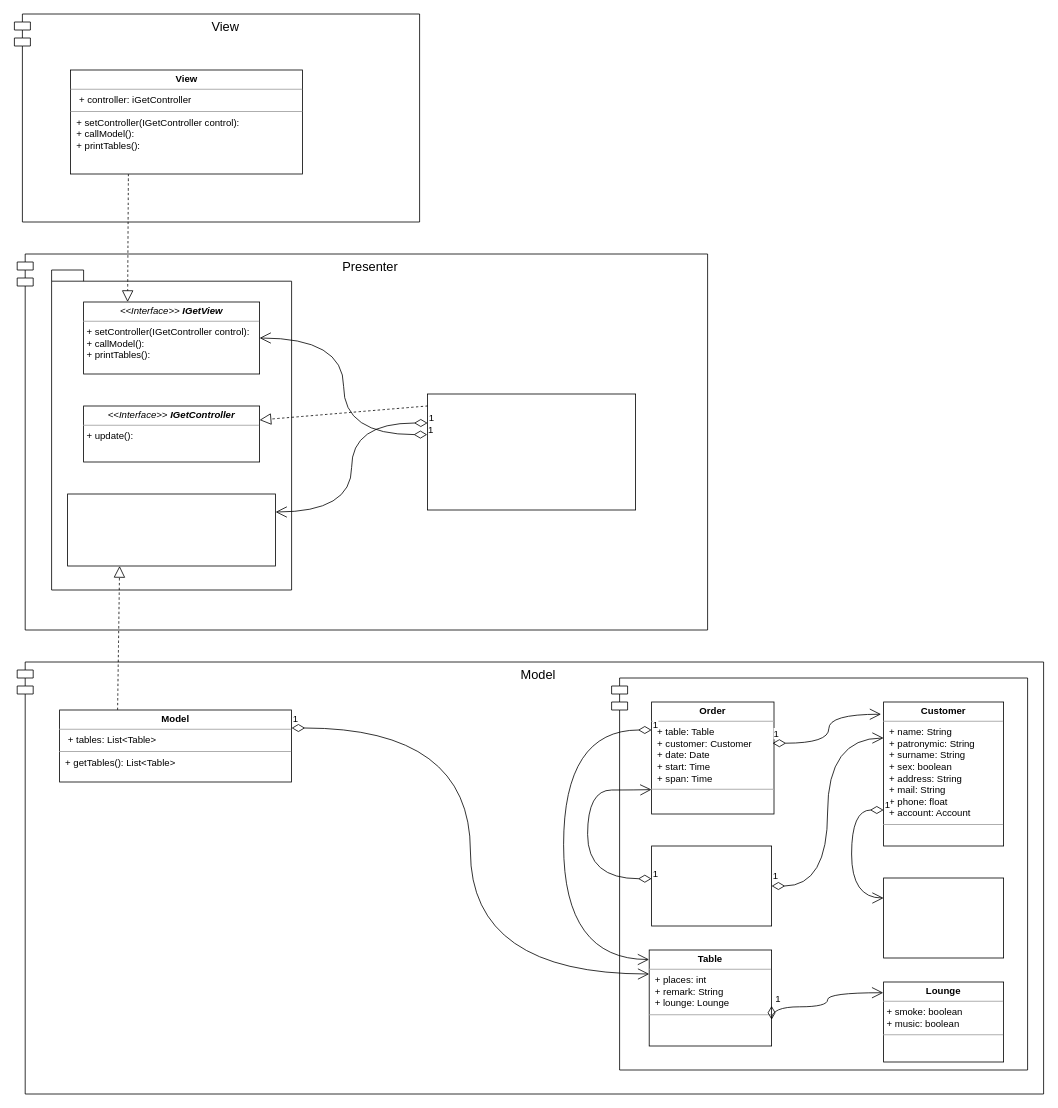
Image size: 1058x1108. Some labels were removed from this diagram. Each missing label, with the box of its shape:
<<Interface>> IGetModel + getTables(): List<Table>: (67, 493, 276, 566)
Account + login: String + hash_password: String: (883, 877, 1004, 958)
Controller + model: iGetModel + view: iGetView + tables: List<Table> + update():: (427, 393, 636, 510)
Domain: (611, 677, 1028, 1070)
History + order: Order + customer: Customer: (651, 845, 772, 926)
